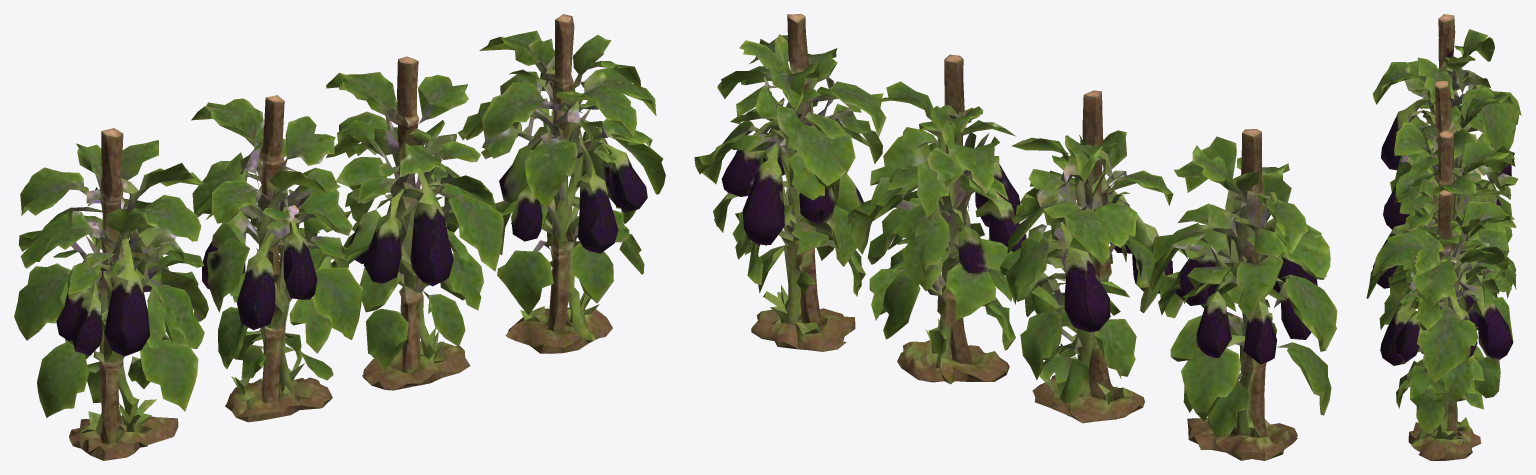
The model's file is crop_eggplant_lite.glb.
The picture shows the model from 3 angles, left to right: view 1: azimuth 30°, elevation 25°; view 2: azimuth 150°, elevation 25°; view 3: azimuth 270°, elevation 25°; orthographic projection. The views are drawn at different scales.
Visible parts, largest first — view 1: geometry_0; view 2: geometry_0; view 3: geometry_0.
Boxes of the visible parts, x1,y1,x2,y2 form: geometry_0: (14, 14, 665, 460); geometry_0: (694, 14, 1337, 460); geometry_0: (1366, 14, 1521, 460).
Bounding box in the file's own units: 1.9 × 0.9064 × 0.5025.
Materials: 1 (1 with a texture image).
